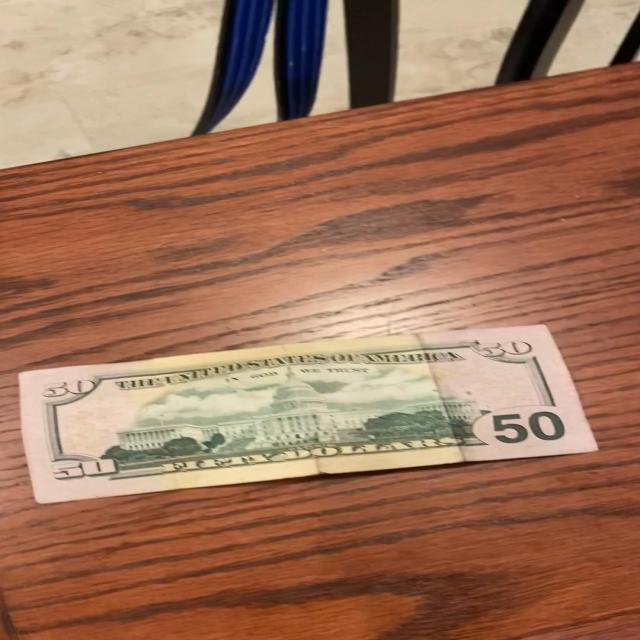50-Back: (6, 321, 610, 516)
